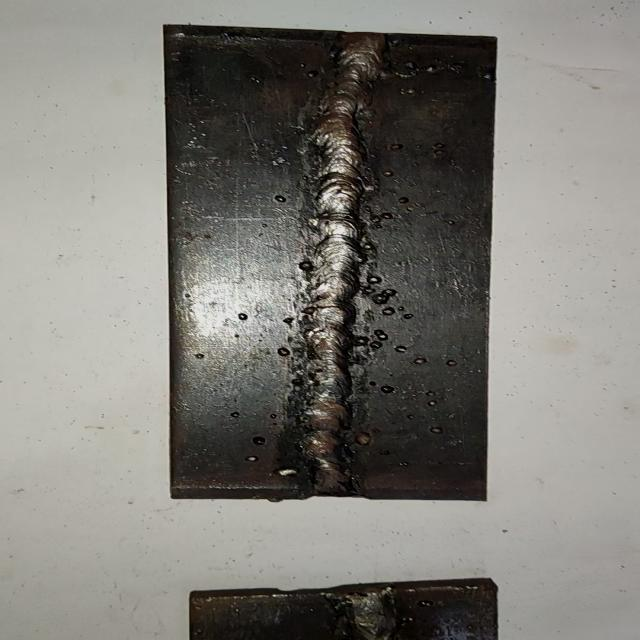Defect: (356, 269, 421, 323), (333, 591, 403, 640), (346, 320, 418, 361), (381, 56, 473, 84)
Welding Line: (295, 31, 399, 494)
Workpiece: (160, 21, 504, 504), (178, 572, 504, 640)
